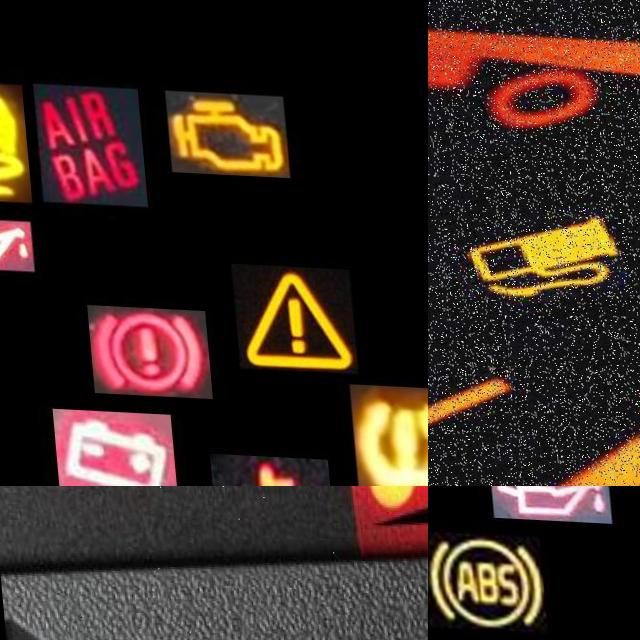Central Warning lamp: (226, 259, 351, 369)
Engine cooling system: (200, 449, 326, 486)
